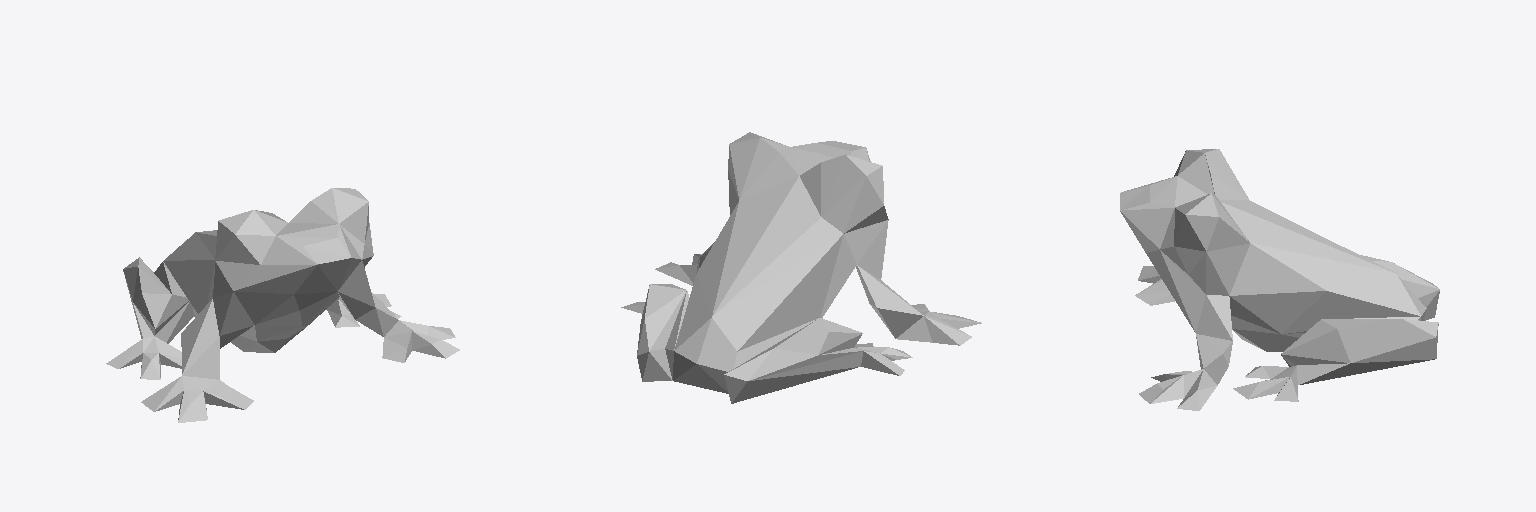
The model's file is frog.obj.
3 views of the same model, side by side, from view 1: azimuth 30°, elevation 25°; view 2: azimuth 150°, elevation 25°; view 3: azimuth 270°, elevation 25° (orthographic).
Parts seen in each view (by area): view 1: frog_face0-texture:1_frog, frog_face1-texture:3_frog.002; view 2: frog_face0-texture:1_frog, frog_face1-texture:3_frog.002; view 3: frog_face0-texture:1_frog, frog_face1-texture:3_frog.002.
Boxes of the visible parts, box(x1,y1,x2,y2) form: frog_face0-texture:1_frog: box(106, 188, 459, 422); frog_face1-texture:3_frog.002: box(215, 188, 368, 264); frog_face0-texture:1_frog: box(621, 138, 981, 403); frog_face1-texture:3_frog.002: box(730, 132, 883, 203); frog_face0-texture:1_frog: box(1120, 149, 1439, 410); frog_face1-texture:3_frog.002: box(1174, 149, 1218, 251).
Bounding box in the file's own units: 1 × 0.5199 × 0.9029.